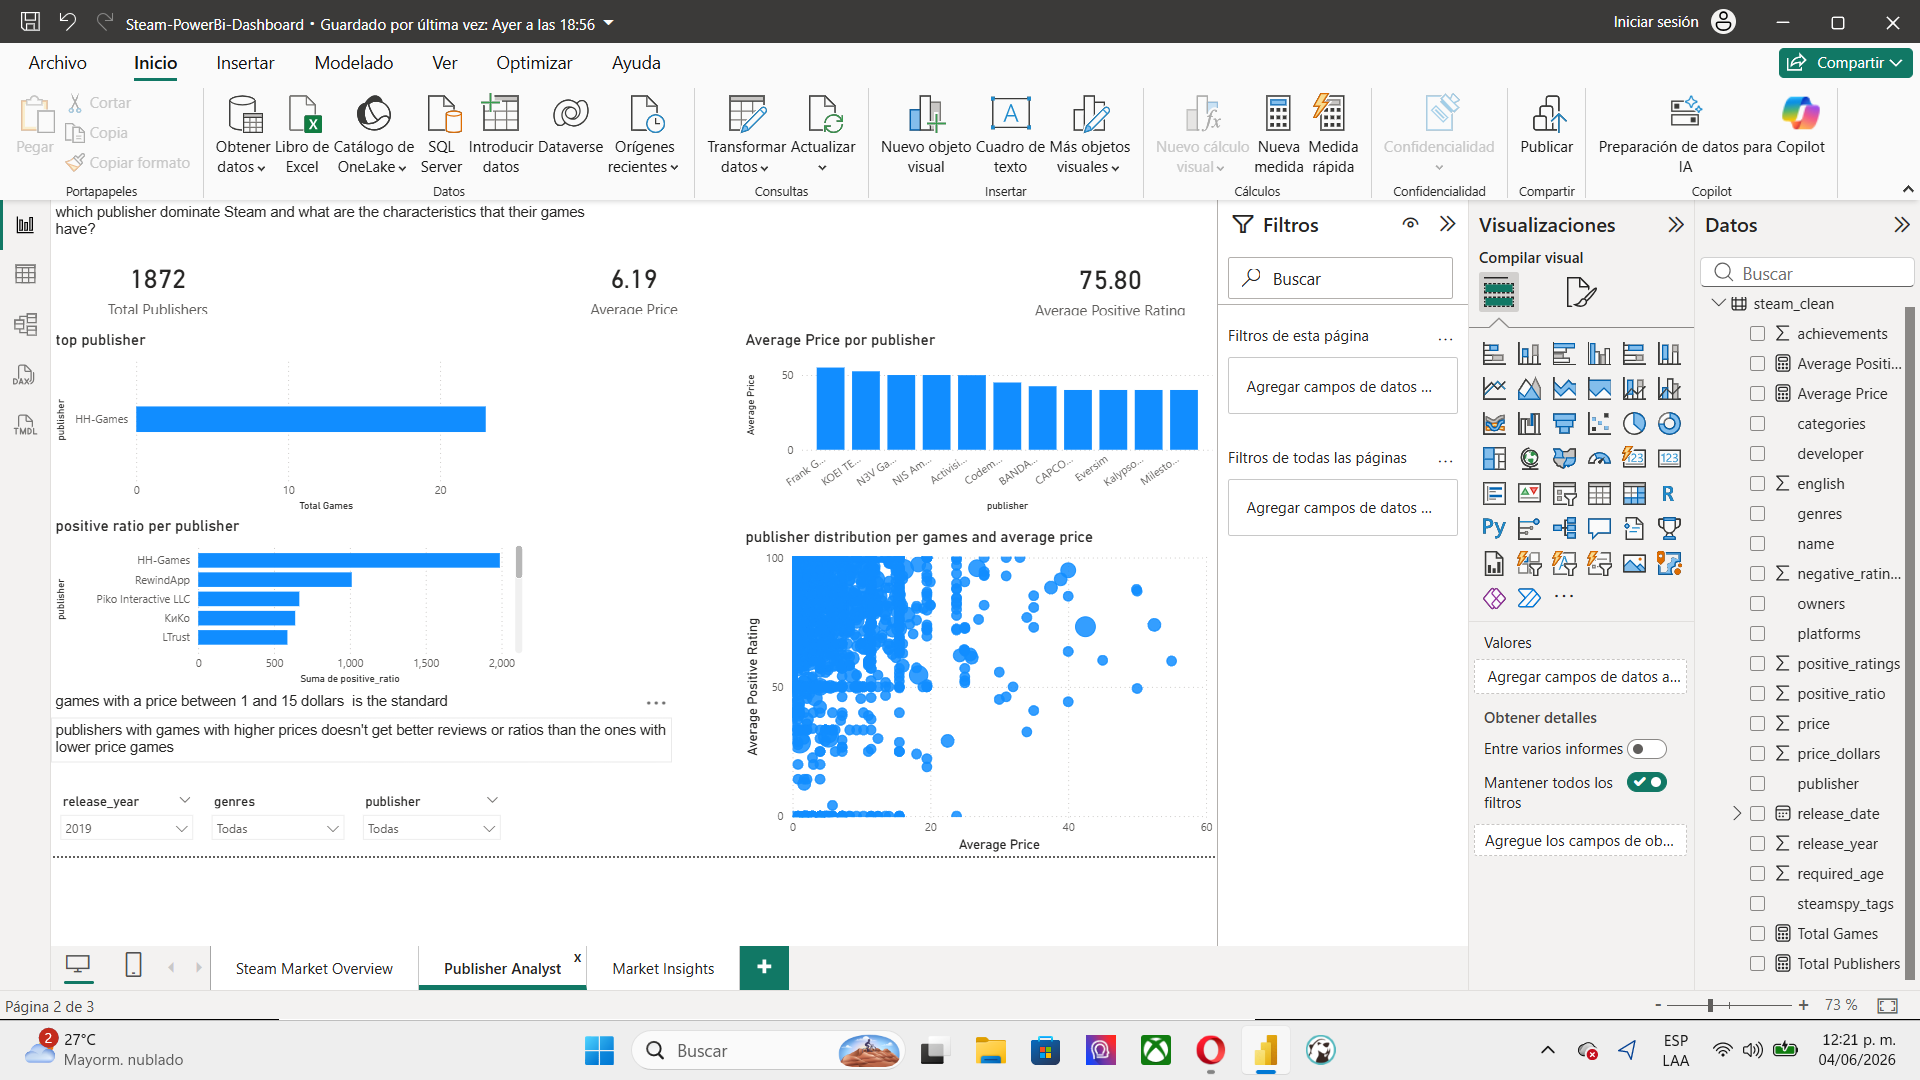

What the dashboard file says about the page in this screenshot:
{"tool":"powerbi","page":{"name":"Publisher Analyst","canvas":[1280,720],"ordinal":1},"visuals":[{"type":"clusteredBarChart","title":"positive ratio per publisher","fields":{"Category":["steam_clean.publisher"],"Y":["Sum(steam_clean.positive_ratio)"]},"box":[0,347.2,522.8,189.4],"z":0},{"type":"textbox","box":[0,0,629.8,60.4],"z":1000},{"type":"card","fields":{"Values":["steam_clean.Total Publishers"]},"box":[0,60.4,234.6,70],"z":2000},{"type":"card","fields":{"Values":["steam_clean.Average Price"]},"box":[522.8,60.4,234.6,70],"z":3000},{"type":"card","fields":{"Values":["steam_clean.Average Positive Rating"]},"box":[1045.6,61.7,234.6,70],"z":4000},{"type":"clusteredBarChart","title":"top publisher","fields":{"Category":["steam_clean.publisher"],"Y":["steam_clean.Total Games"]},"box":[0,142.7,522.8,204.5],"z":5000},{"type":"columnChart","fields":{"Category":["steam_clean.publisher"],"Y":["steam_clean.Average Price"]},"box":[757.5,142.7,522.8,204.5],"z":6000},{"type":"scatterChart","title":"publisher distribution per games and average price","fields":{"X":["steam_clean.Average Price"],"Category":["steam_clean.publisher"],"Size":["steam_clean.Total Games"],"Y":["steam_clean.Average Positive Rating"]},"box":[757.5,359.5,522.8,360.9],"z":7000},{"type":"slicer","fields":{"Values":["steam_clean.publisher"]},"box":[332.1,646.3,171.5,74.1],"z":8000},{"type":"slicer","fields":{"Values":["steam_clean.release_year"]},"box":[0,646.3,166,74.1],"z":9000},{"type":"slicer","fields":{"Values":["steam_clean.genres"]},"box":[166,646.3,166,74.1],"z":10000},{"type":"textbox","box":[0,536.5,443.2,31.6],"z":11000},{"type":"textbox","box":[0,568.1,682,49.4],"z":12000}]}

Visuals, with their boxes on the page's 1280x720 design canvas (x1, y1, x2, y2). These are canvas units, not pixel positions in the 1920x1080 screenshot, which may show the page scaled, cropped or inside an application window:
"positive ratio per publisher" clusteredBarChart: Rect(0, 347, 523, 537)
textbox: Rect(0, 0, 630, 60)
card - steam_clean.Total Publishers: Rect(0, 60, 235, 130)
card - steam_clean.Average Price: Rect(523, 60, 757, 130)
card - steam_clean.Average Positive Rating: Rect(1046, 62, 1280, 132)
"top publisher" clusteredBarChart: Rect(0, 143, 523, 347)
columnChart - steam_clean.publisher x steam_clean.Average Price: Rect(758, 143, 1280, 347)
"publisher distribution per games and average price" scatterChart: Rect(758, 360, 1280, 720)
slicer - steam_clean.publisher: Rect(332, 646, 504, 720)
slicer - steam_clean.release_year: Rect(0, 646, 166, 720)
slicer - steam_clean.genres: Rect(166, 646, 332, 720)
textbox: Rect(0, 536, 443, 568)
textbox: Rect(0, 568, 682, 618)
